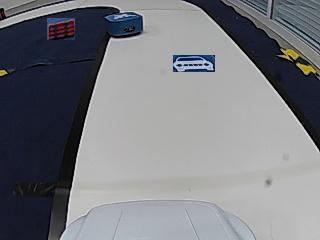prop: (105, 12, 143, 38)
